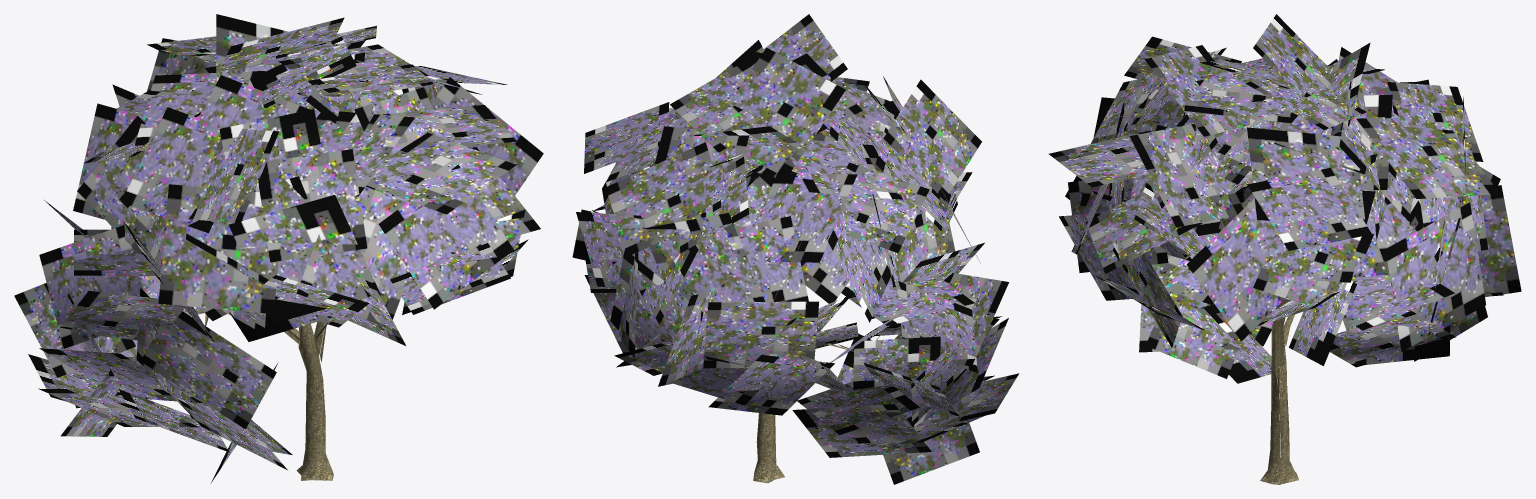
The model's file is jacaranda_bloom_b_lod1.glb.
The picture shows the model from 3 angles, left to right: view 1: azimuth 30°, elevation 25°; view 2: azimuth 150°, elevation 25°; view 3: azimuth 270°, elevation 25°; orthographic projection. The views are drawn at different scales.
Visible parts, largest first — view 1: jacaranda_bloom_b_lod1; view 2: jacaranda_bloom_b_lod1; view 3: jacaranda_bloom_b_lod1.
Part boxes in pixels (left/top/right/bottom): jacaranda_bloom_b_lod1: left=14, top=14, right=543, bottom=482; jacaranda_bloom_b_lod1: left=572, top=14, right=1019, bottom=484; jacaranda_bloom_b_lod1: left=1049, top=14, right=1521, bottom=484.
Size of the model in its own units: 12.76 by 12.19 by 11.97.
2 materials, 2 textured.
